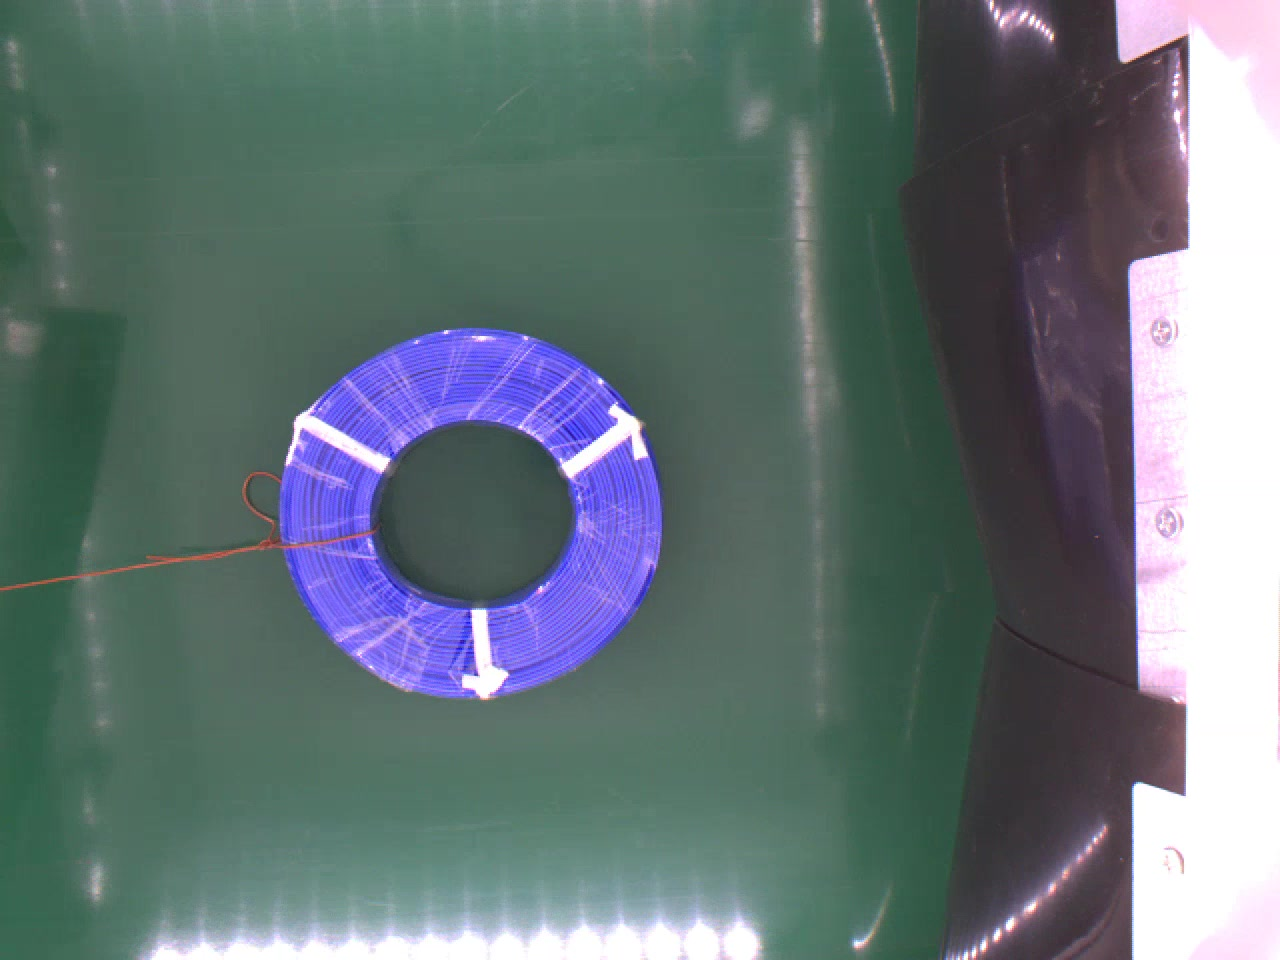blue: (273, 319, 668, 699)
